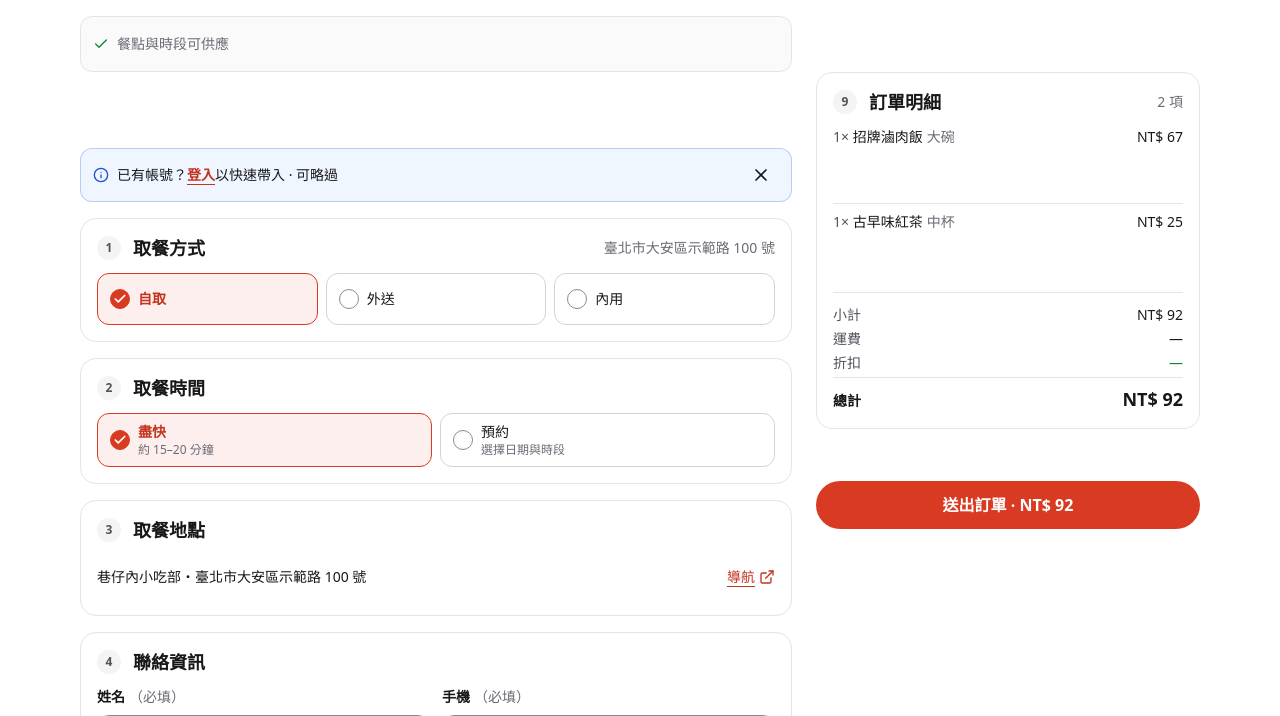
Scenario: 表單驗證（03 §8.3） › 必填：送出時對全表單驗證，不送出、聚焦第一個錯誤欄位並於頁首彙整錯誤數
expect the text "餐點與時段可供應" is shown: met, box [93,34,229,54]
Click the button "送出訂單 · NT$ 92" at (1008, 505), box [816,481,1200,529]
(page scrolled)
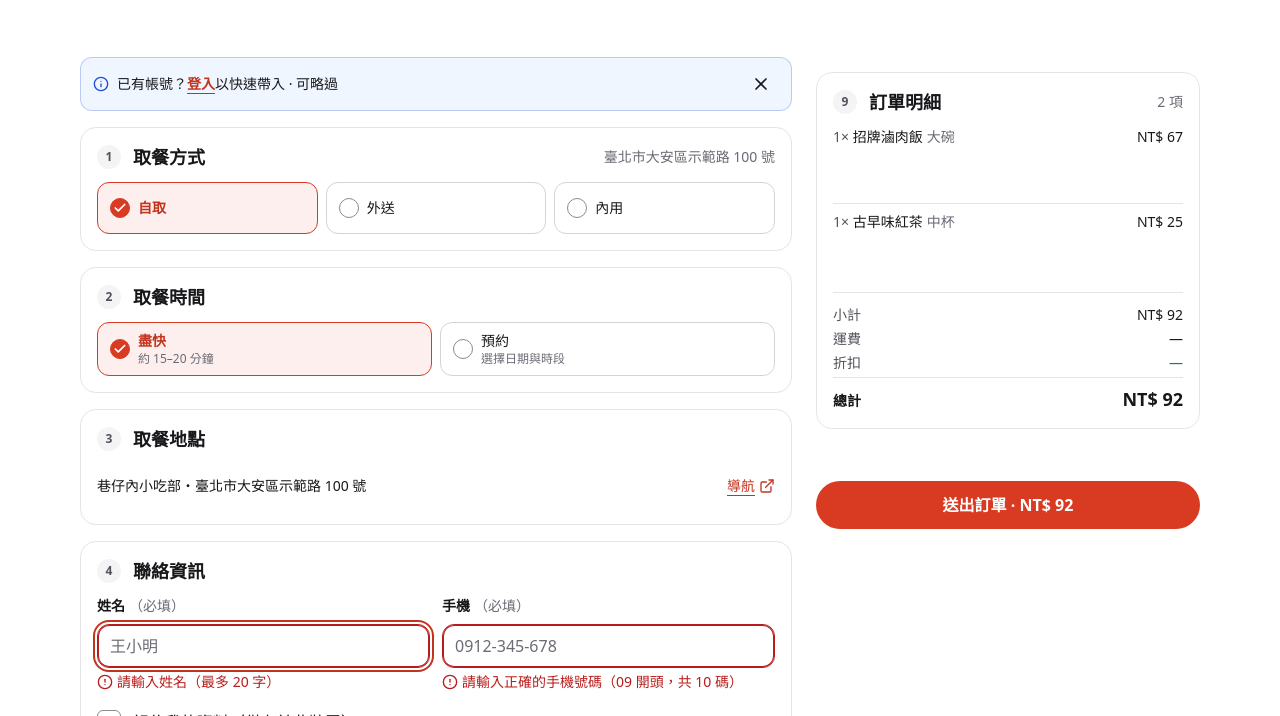
expect the text "請輸入姓名（最多 20 字）" is shown: met, box [117,672,280,692]
expect the text "請輸入正確的手機號碼（09 開頭，共 10 碼）" is shown: met, box [462,672,743,692]
